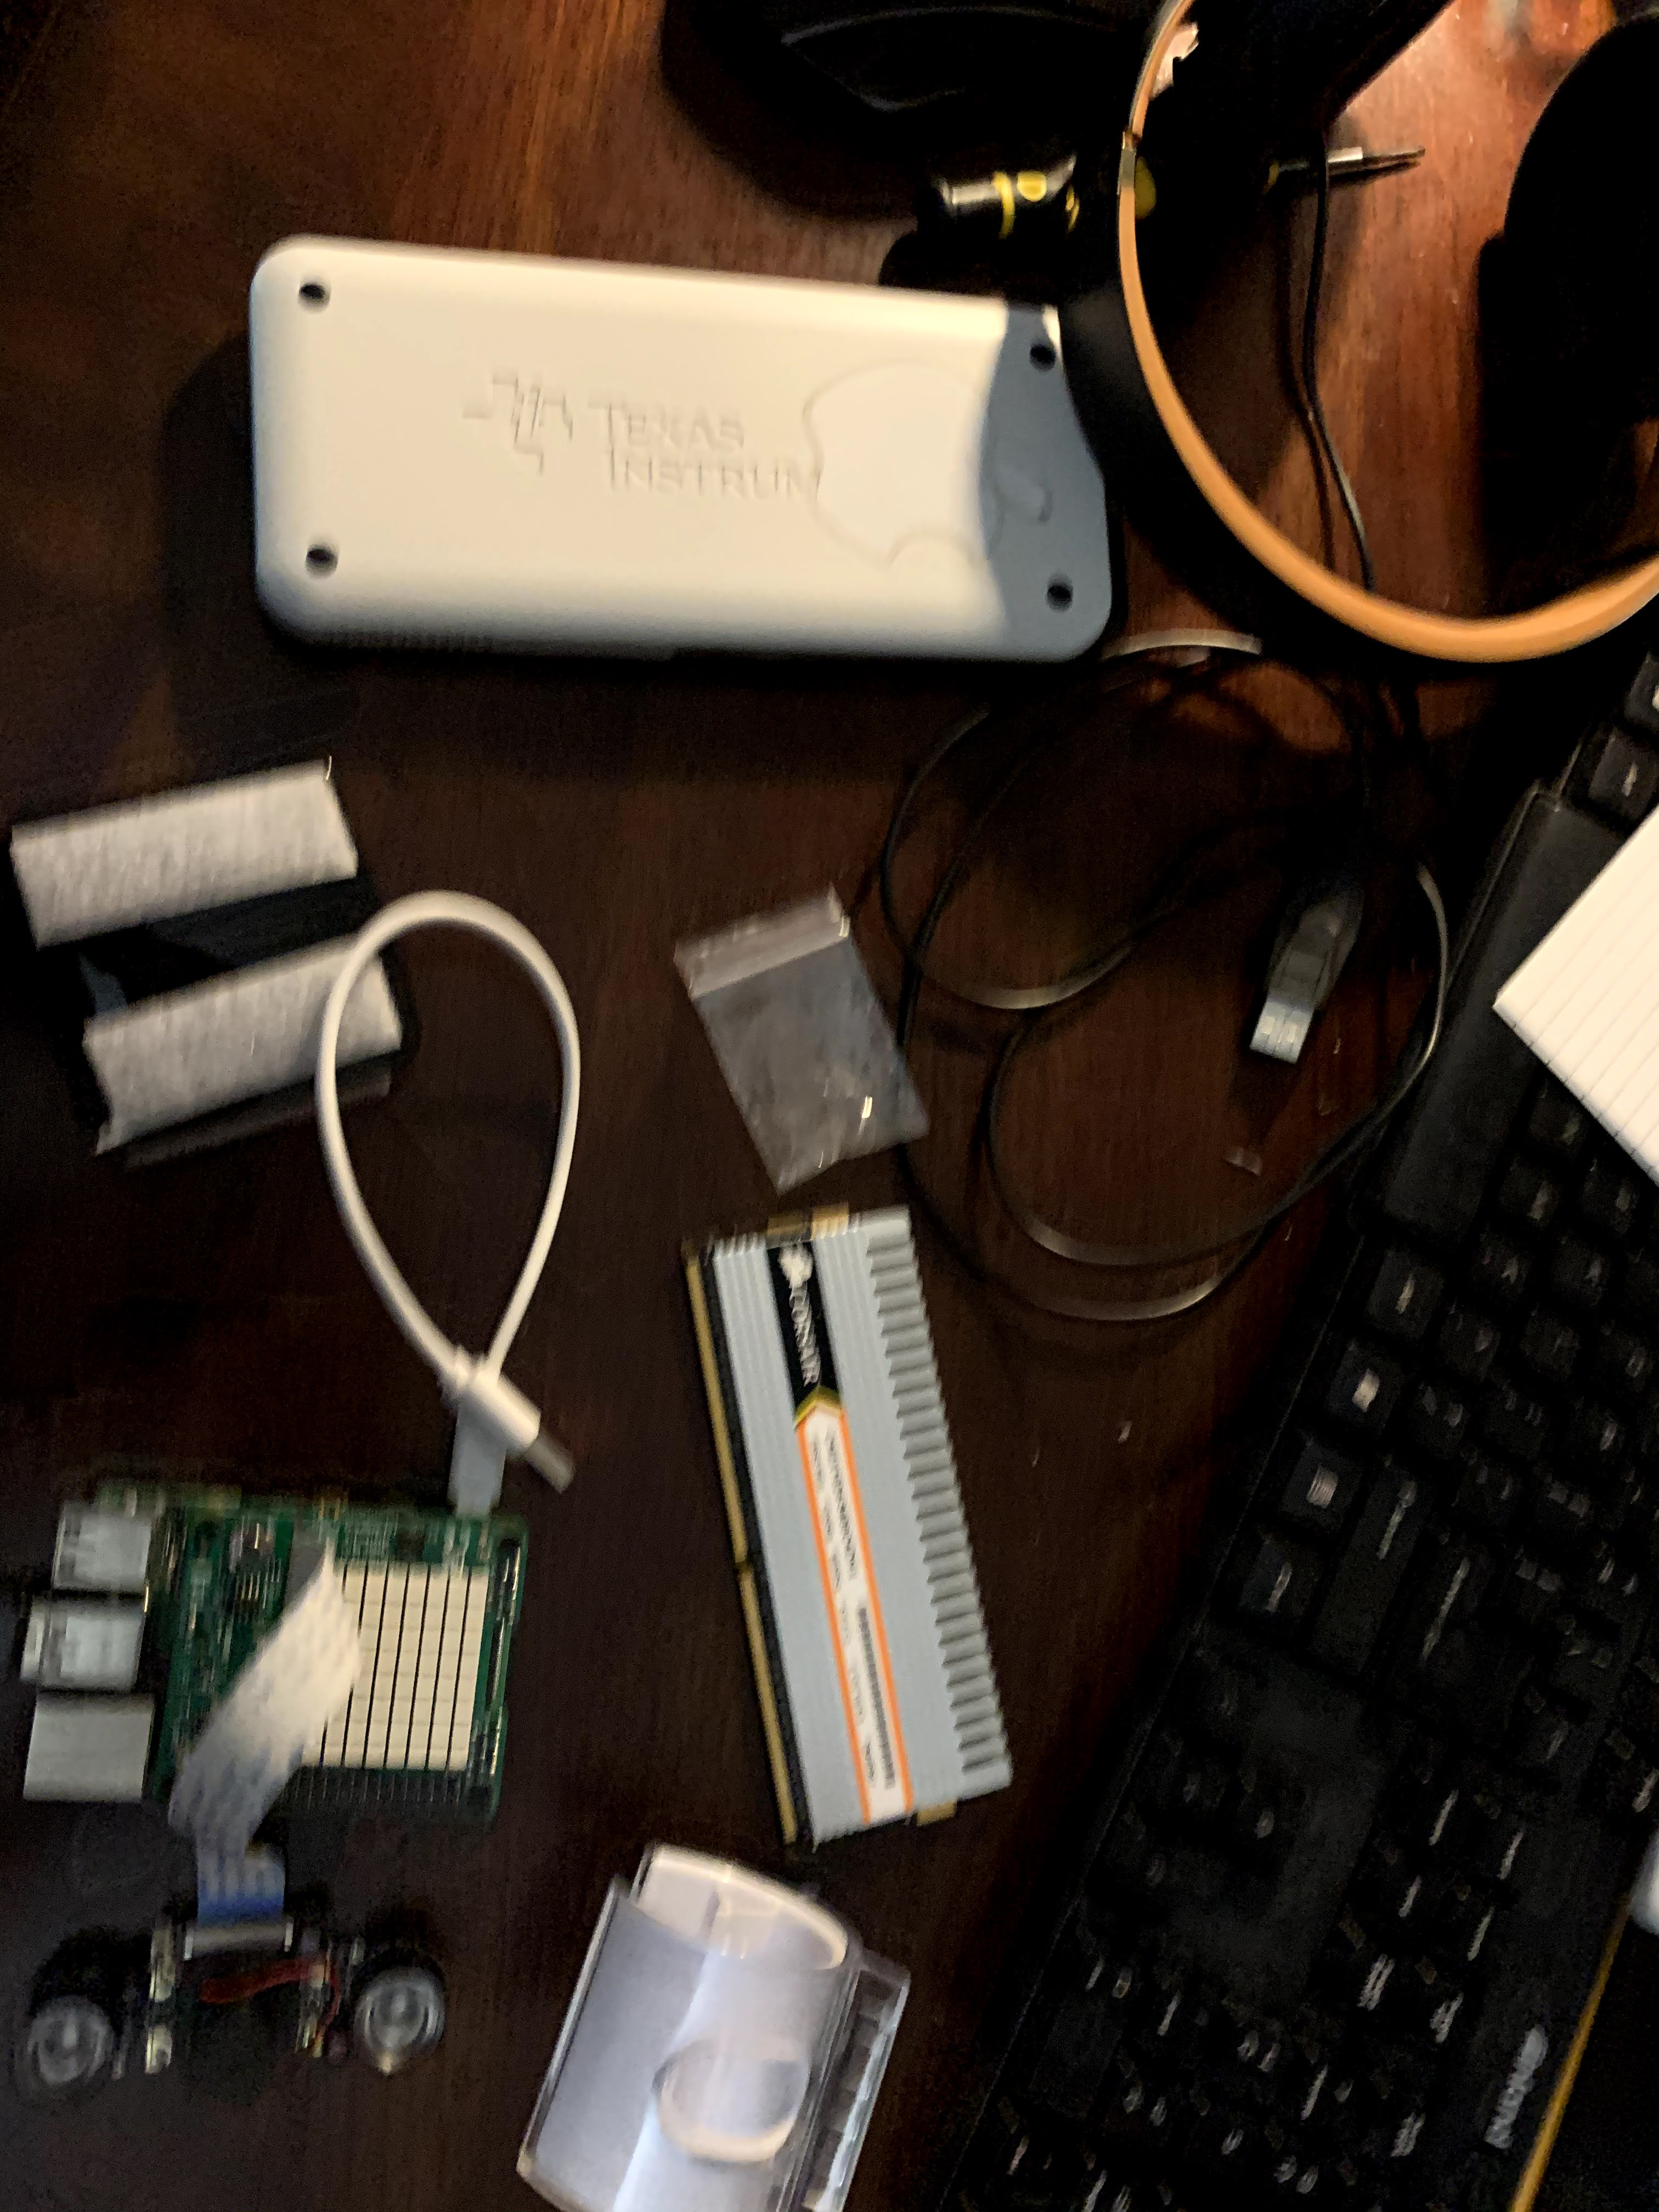Space-debris-medium: (653, 1197, 1039, 1864)
